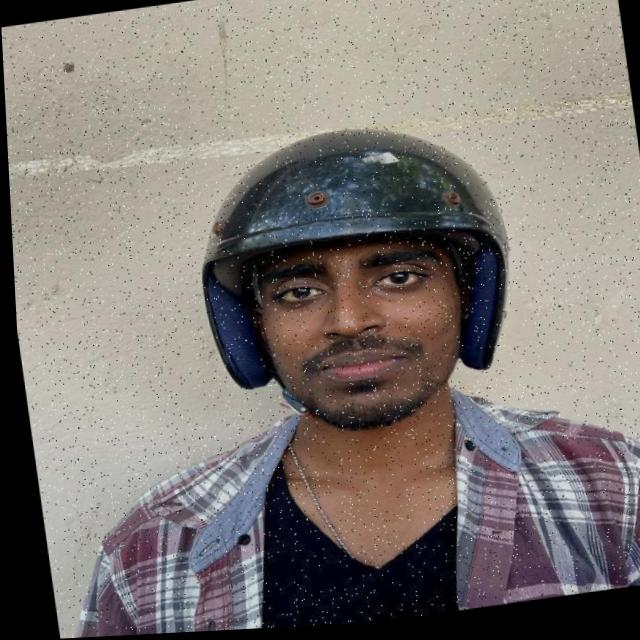helmet: (177, 114, 533, 453)
